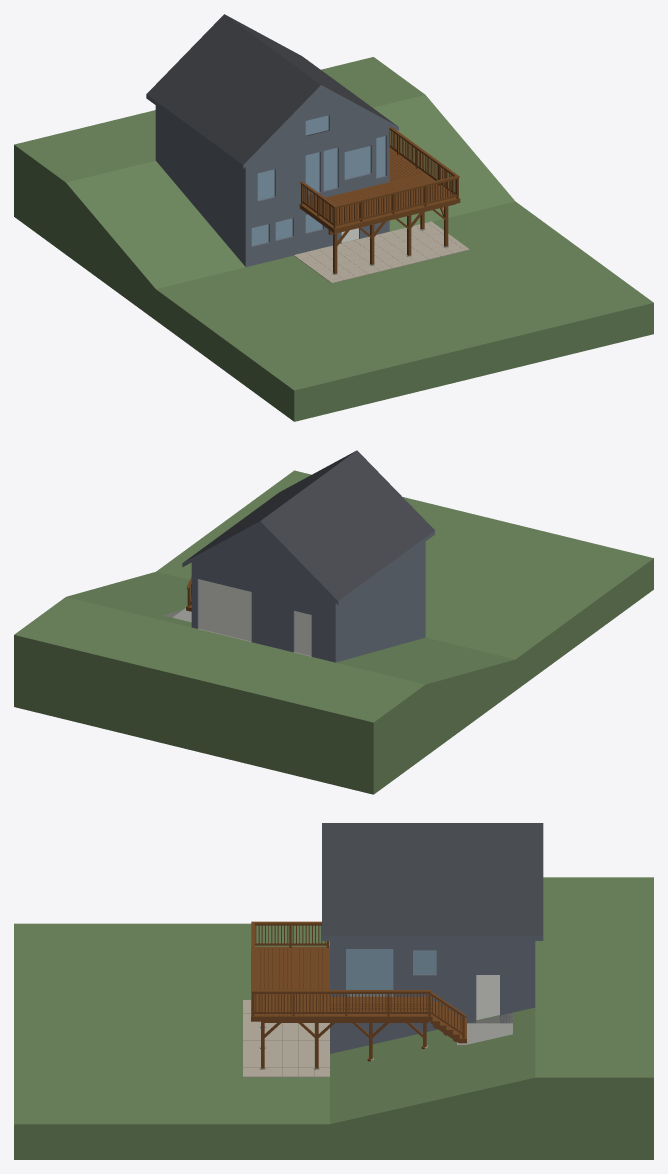
File: deck.glb
3 views of the same model, one above another, from view 1: azimuth 30°, elevation 25°; view 2: azimuth 150°, elevation 25°; view 3: azimuth 270°, elevation 25° (orthographic). The views are drawn at different scales.
Visible parts, largest first — view 1: Bow Street deck; view 2: Bow Street deck; view 3: Bow Street deck.
Boxes of the visible parts, x1,y1,x2,y2 form: Bow Street deck: [14, 14, 653, 421]; Bow Street deck: [14, 450, 653, 794]; Bow Street deck: [14, 823, 653, 1159].
Size of the model in its own units: 18.29 by 9.65 by 24.69.
